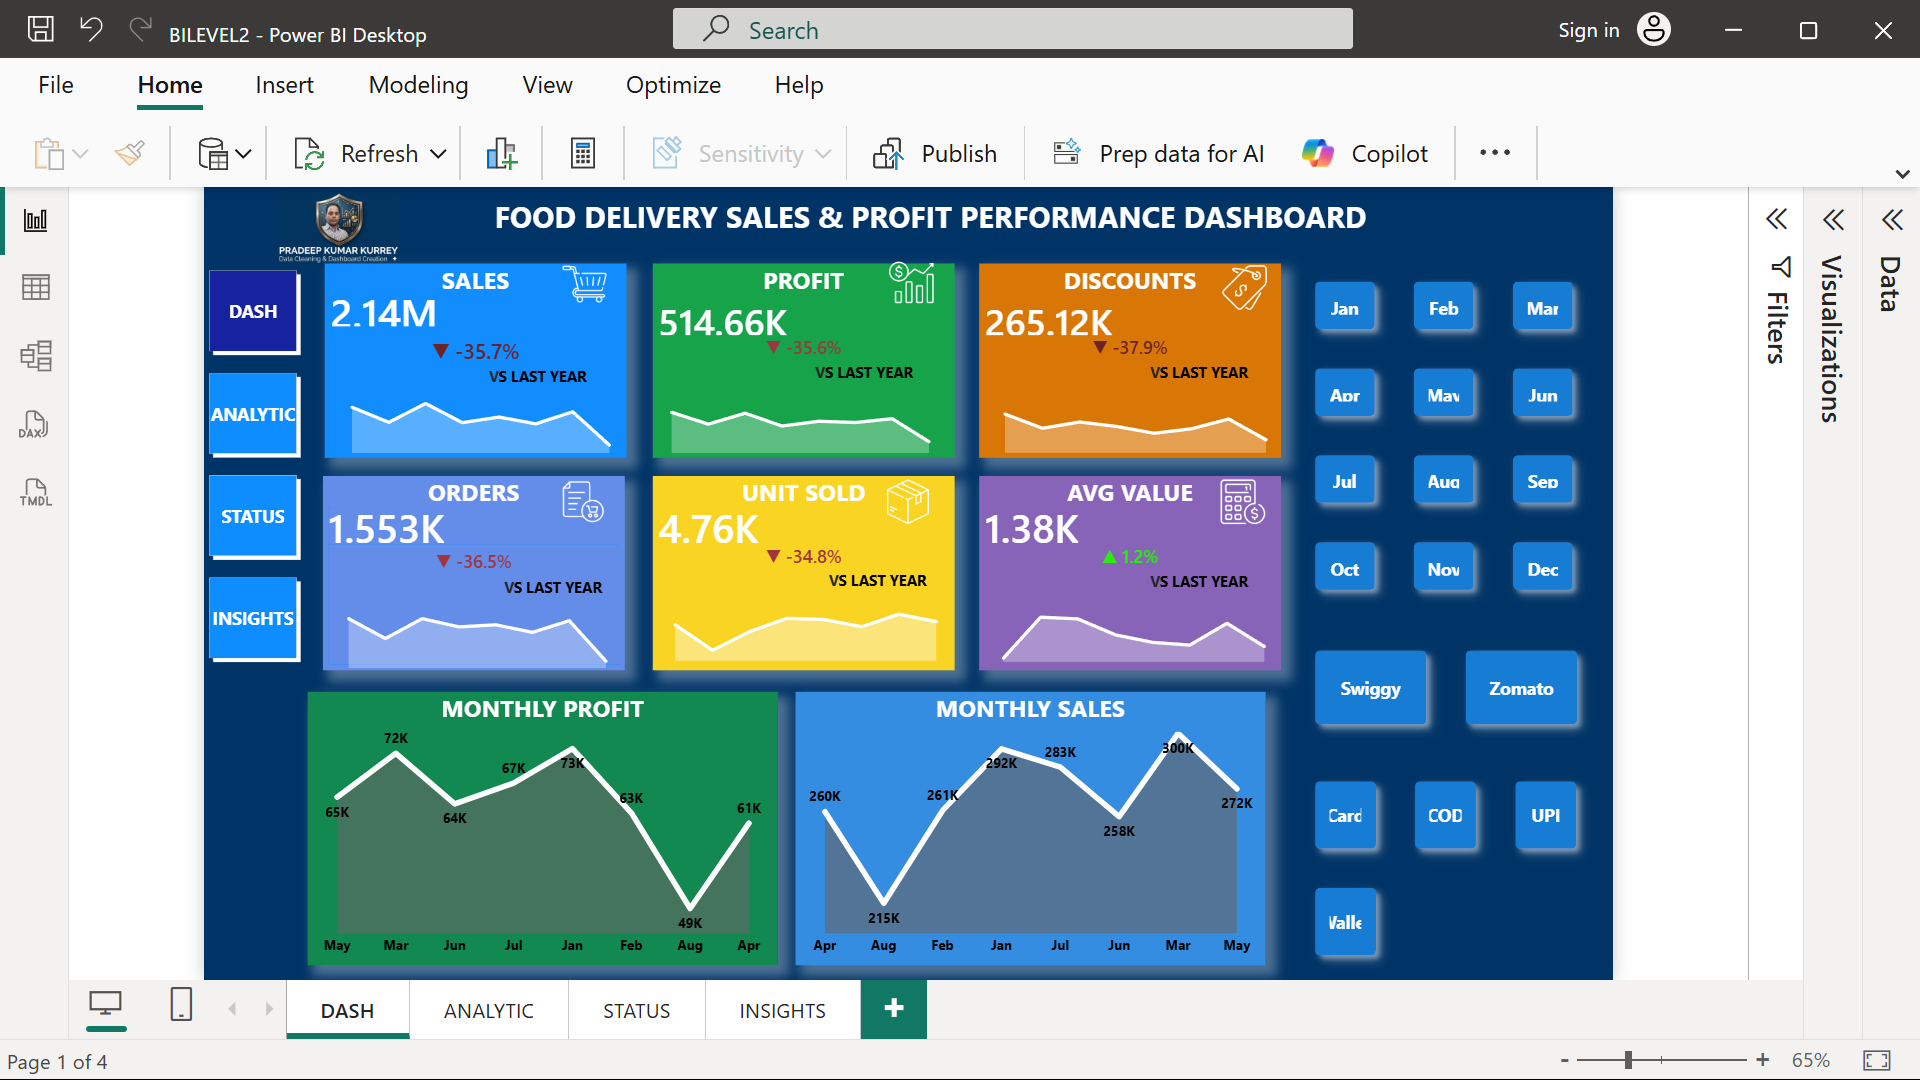

The page's visual inventory and layout, read from the dashboard file:
{"tool":"powerbi","page":{"name":"DASH","canvas":[1280,720],"ordinal":0},"visuals":[{"type":"advancedSlicerVisual","fields":{"Values":["DATE TABLE.MONTH"]},"box":[988.1,64.4,277.8,323.8],"z":0},{"type":"textbox","box":[213.4,184,112.2,27.6],"z":1000},{"type":"textbox","box":[11,3.7,1258.6,62.6],"z":2000},{"type":"advancedSlicerVisual","fields":{"Values":["Sheet1.PLATFORM"]},"box":[988.5,400,280.8,109.6],"z":3000},{"type":"image","box":[53.4,3.7,182.2,57],"z":4000},{"type":"cardVisual","title":"SALES","fields":{"Data":["DATE TABLE.TOTAL SALES 2024"]},"box":[99.4,69.9,274.2,176.6],"z":5000},{"type":"textbox","box":[246.6,158.2,112.2,27.6],"z":6000},{"type":"areaChart","fields":{"Category":["DATE TABLE.MONTH"],"Y":["DATE TABLE.TOTAL SALES 2024"]},"box":[101.2,182.2,270.5,64.4],"z":7000},{"type":"cardVisual","title":"PROFIT","fields":{"Data":["DATE TABLE.PROFIT 2024"]},"box":[397.4,69.9,274.2,176.6],"z":8000},{"type":"textbox","box":[542.8,154.6,112.2,27.6],"z":9000},{"type":"areaChart","fields":{"Category":["DATE TABLE.MONTH"],"Y":["DATE TABLE.PROFIT 2024"]},"box":[397.4,182.2,270.5,64.4],"z":10000},{"type":"cardVisual","title":"DISCOUNTS","fields":{"Data":["DATE TABLE.DISCOUNT 2024"]},"box":[693.7,69.9,274.2,176.6],"z":11000},{"type":"textbox","box":[848.3,154.6,112.2,27.6],"z":12000},{"type":"lineChart","fields":{"Category":["DATE TABLE.MONTH"],"Y":["DATE TABLE.DISCOUNT 2024"]},"box":[693.7,184,274.2,62.6],"z":13000},{"type":"advancedSlicerVisual","fields":{"Values":["Sheet1.PAYMENT MODE"]},"box":[988.1,518.9,281.5,200.6],"z":14000},{"type":"cardVisual","title":"ORDERS","fields":{"Data":["DATE TABLE.ORDER 2024"]},"box":[97.5,263.1,274.2,176.6],"z":15000},{"type":"cardVisual","title":"AVG  VALUE","fields":{"Data":["DATE TABLE.AVG 2024"]},"box":[693.7,263.1,274.2,176.6],"z":16000},{"type":"lineChart","fields":{"Y":["DATE TABLE.ORDER 2024"],"Category":["DATE TABLE.MONTH"]},"box":[99.4,371.7,270.5,69.9],"z":17000},{"type":"cardVisual","title":"UNIT SOLD","fields":{"Data":["DATE TABLE.QTY 2024"]},"box":[397.4,263.1,274.2,176.6],"z":18000},{"type":"textbox","box":[555.7,342.2,112.2,27.6],"z":19000},{"type":"areaChart","fields":{"Category":["Sheet1.MONTH"],"Y":["DATE TABLE.QTY 2024"]},"box":[397.4,368,274.2,68.1],"z":20000},{"type":"textbox","box":[848.3,344.1,112.2,27.6],"z":21000},{"type":"lineChart","fields":{"Y":["DATE TABLE.AVG 2024"],"Category":["Sheet1.MONTH"]},"box":[693.7,373.5,274.2,62.6],"z":22000},{"type":"areaChart","title":"MONTHLY PROFIT","fields":{"Category":["Sheet1.MONTH"],"Y":["DATE TABLE.PROFIT 2024"]},"box":[93.8,458.2,426.9,248.4],"z":23000},{"type":"areaChart","title":"MONTHLY SALES","fields":{"Category":["Sheet1.MONTH"],"Y":["DATE TABLE.TOTAL SALES 2024"]},"box":[537.3,458.2,426.9,248.4],"z":24000},{"type":"pageNavigator","box":[5.8,71.2,80.8,363.5],"z":25000},{"type":"textbox","box":[261.3,342.2,112.2,27.6],"z":26000},{"type":"image","box":[305.4,68.1,80,40.5],"z":27000},{"type":"image","box":[601.7,66.2,81,40.5],"z":28000},{"type":"image","box":[905.3,71.8,81,40.5],"z":29000},{"type":"image","box":[903.5,265,81,40.5],"z":30000},{"type":"image","box":[599.8,265,81,40.5],"z":31000},{"type":"image","box":[303.6,265,81,40.5],"z":32000}]}

Visuals, with their boxes on the page's 1280x720 design canvas (x1, y1, x2, y2). These are canvas units, not pixel positions in the 1920x1080 screenshot, which may show the page scaled, cropped or inside an application window:
advancedSlicerVisual - DATE TABLE.MONTH: region(988, 64, 1266, 388)
textbox: region(213, 184, 326, 212)
textbox: region(11, 4, 1270, 66)
advancedSlicerVisual - Sheet1.PLATFORM: region(988, 400, 1269, 510)
image: region(53, 4, 236, 61)
"SALES" cardVisual: region(99, 70, 374, 246)
textbox: region(247, 158, 359, 186)
areaChart - DATE TABLE.MONTH x DATE TABLE.TOTAL SALES 2024: region(101, 182, 372, 247)
"PROFIT" cardVisual: region(397, 70, 672, 246)
textbox: region(543, 155, 655, 182)
areaChart - DATE TABLE.MONTH x DATE TABLE.PROFIT 2024: region(397, 182, 668, 247)
"DISCOUNTS" cardVisual: region(694, 70, 968, 246)
textbox: region(848, 155, 960, 182)
lineChart - DATE TABLE.MONTH x DATE TABLE.DISCOUNT 2024: region(694, 184, 968, 247)
advancedSlicerVisual - Sheet1.PAYMENT MODE: region(988, 519, 1270, 720)
"ORDERS" cardVisual: region(98, 263, 372, 440)
"AVG  VALUE" cardVisual: region(694, 263, 968, 440)
lineChart - DATE TABLE.ORDER 2024 x DATE TABLE.MONTH: region(99, 372, 370, 442)
"UNIT SOLD" cardVisual: region(397, 263, 672, 440)
textbox: region(556, 342, 668, 370)
areaChart - Sheet1.MONTH x DATE TABLE.QTY 2024: region(397, 368, 672, 436)
textbox: region(848, 344, 960, 372)
lineChart - DATE TABLE.AVG 2024 x Sheet1.MONTH: region(694, 374, 968, 436)
"MONTHLY PROFIT" areaChart: region(94, 458, 521, 707)
"MONTHLY SALES" areaChart: region(537, 458, 964, 707)
pageNavigator: region(6, 71, 87, 435)
textbox: region(261, 342, 374, 370)
image: region(305, 68, 385, 109)
image: region(602, 66, 683, 107)
image: region(905, 72, 986, 112)
image: region(904, 265, 984, 306)
image: region(600, 265, 681, 306)
image: region(304, 265, 385, 306)
